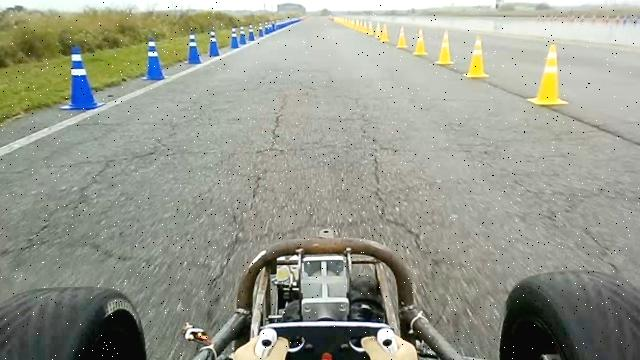blue cone: (59, 45, 105, 110), (140, 36, 166, 80), (186, 31, 202, 64), (207, 30, 220, 56), (229, 28, 240, 48)
yellow cone: (526, 43, 568, 106), (463, 35, 489, 78), (435, 29, 454, 65), (413, 28, 428, 56), (396, 26, 408, 48), (380, 22, 390, 42)
